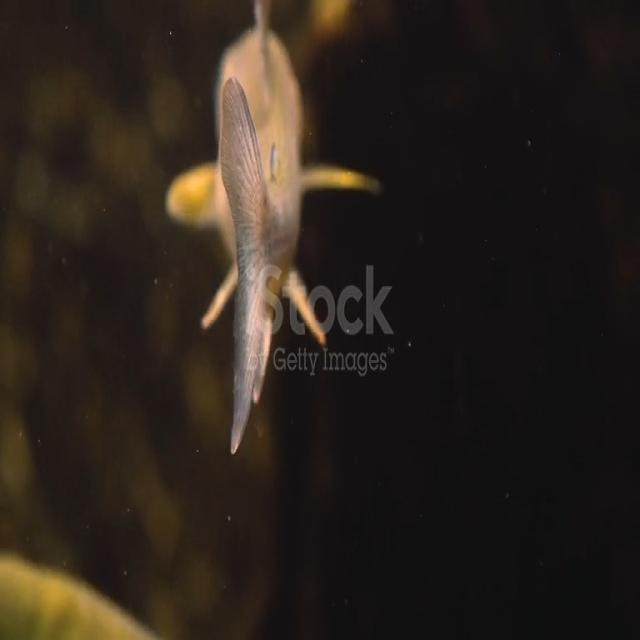fish: (166, 0, 382, 459)
